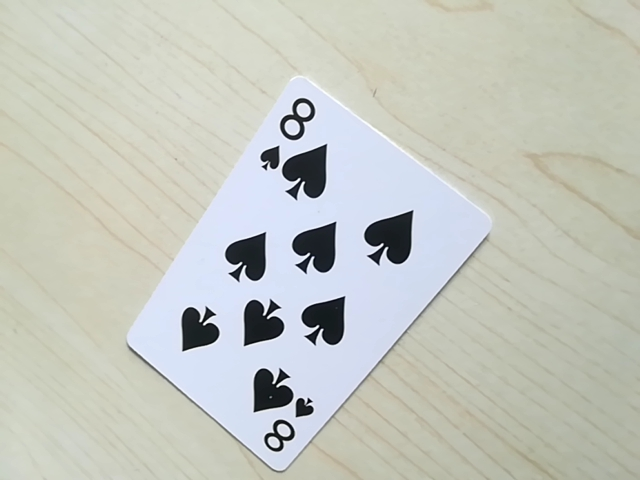ht 8: (263, 89, 322, 165), (250, 403, 317, 462)
